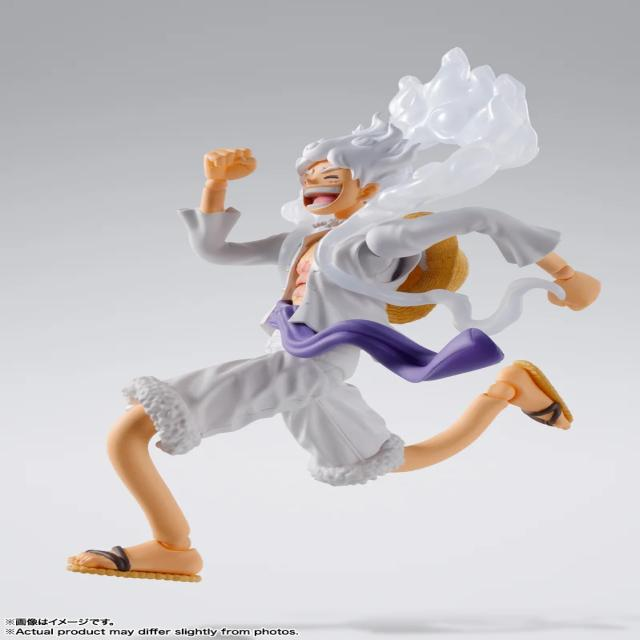luffy: (70, 49, 598, 575)
